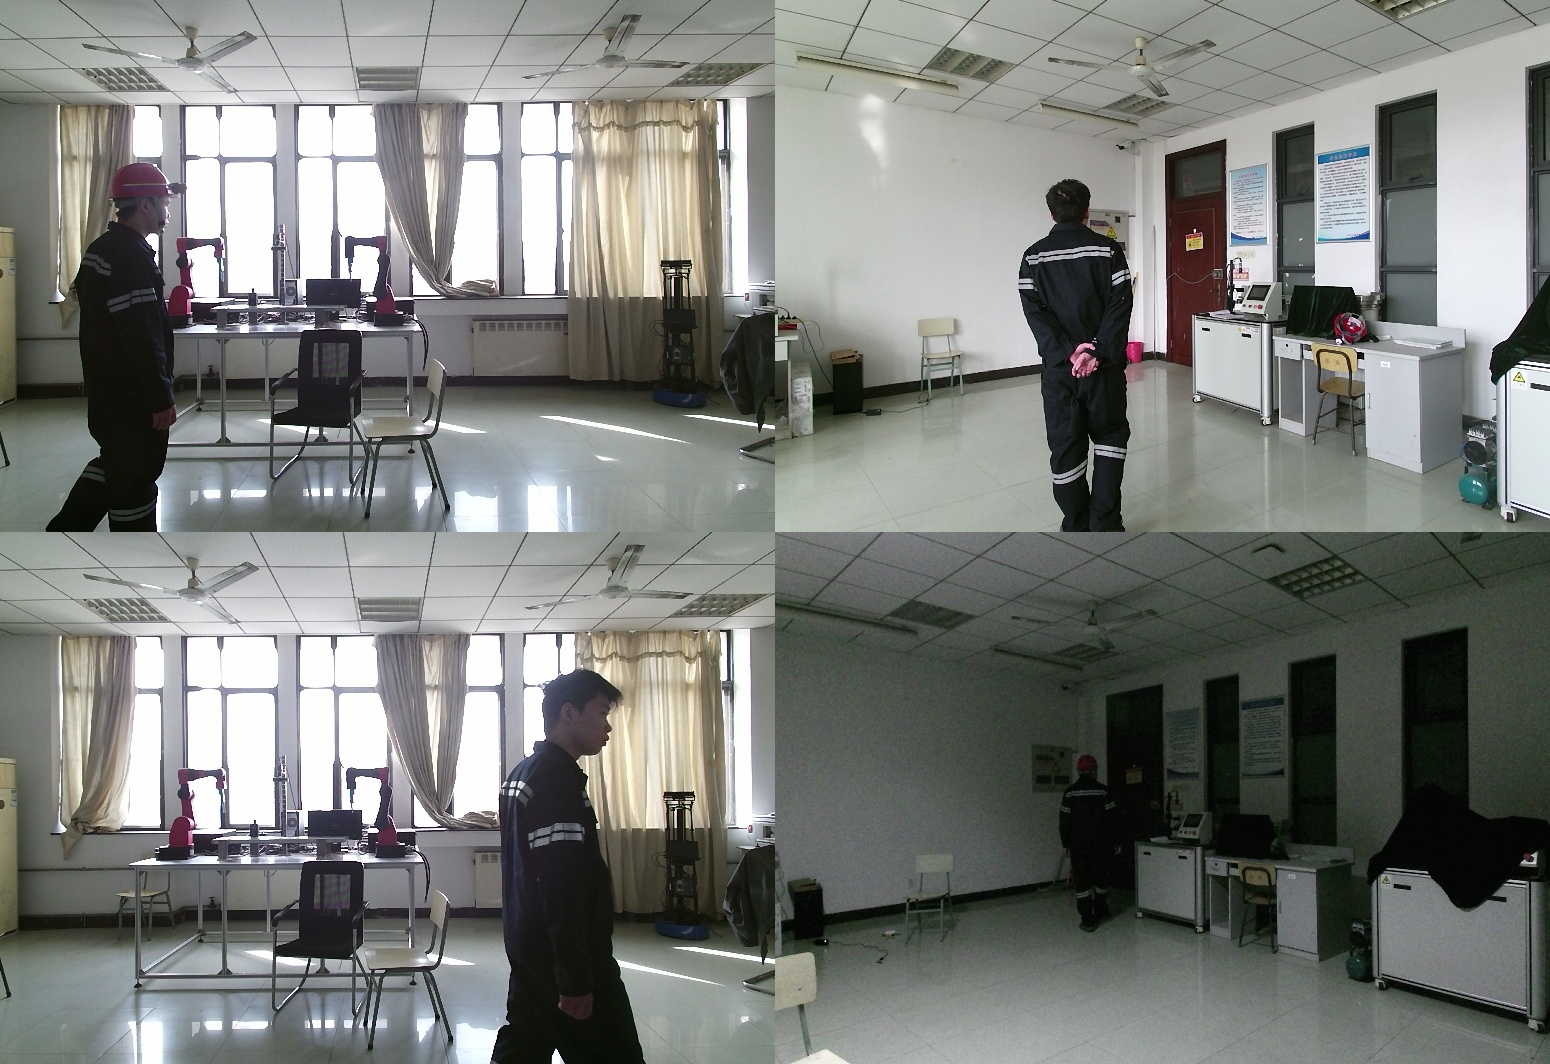person: (496, 674, 657, 1064), (46, 163, 190, 532), (1015, 178, 1147, 532), (1055, 755, 1128, 942)
